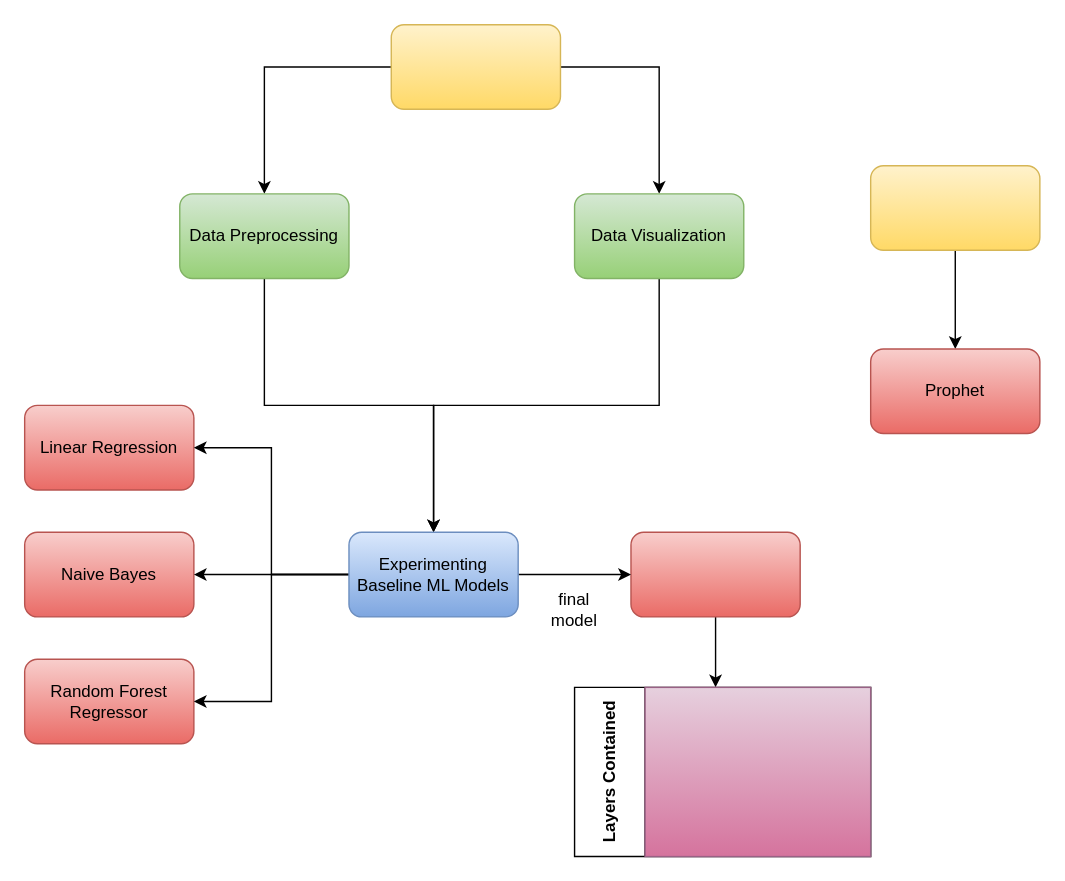
This 1065x881 diagram has some shape labels left out. Here are the shapes that lost their labels. From the top down, the box of each, then its label:
(390, 23, 560, 109): Exploratory Data Analysis
(869, 164, 1040, 250): Forecasting
(630, 531, 800, 617): Neural Networks Gated Recurrent Unit
(644, 686, 871, 857): GRU Dense Batch Normalization Dropout
